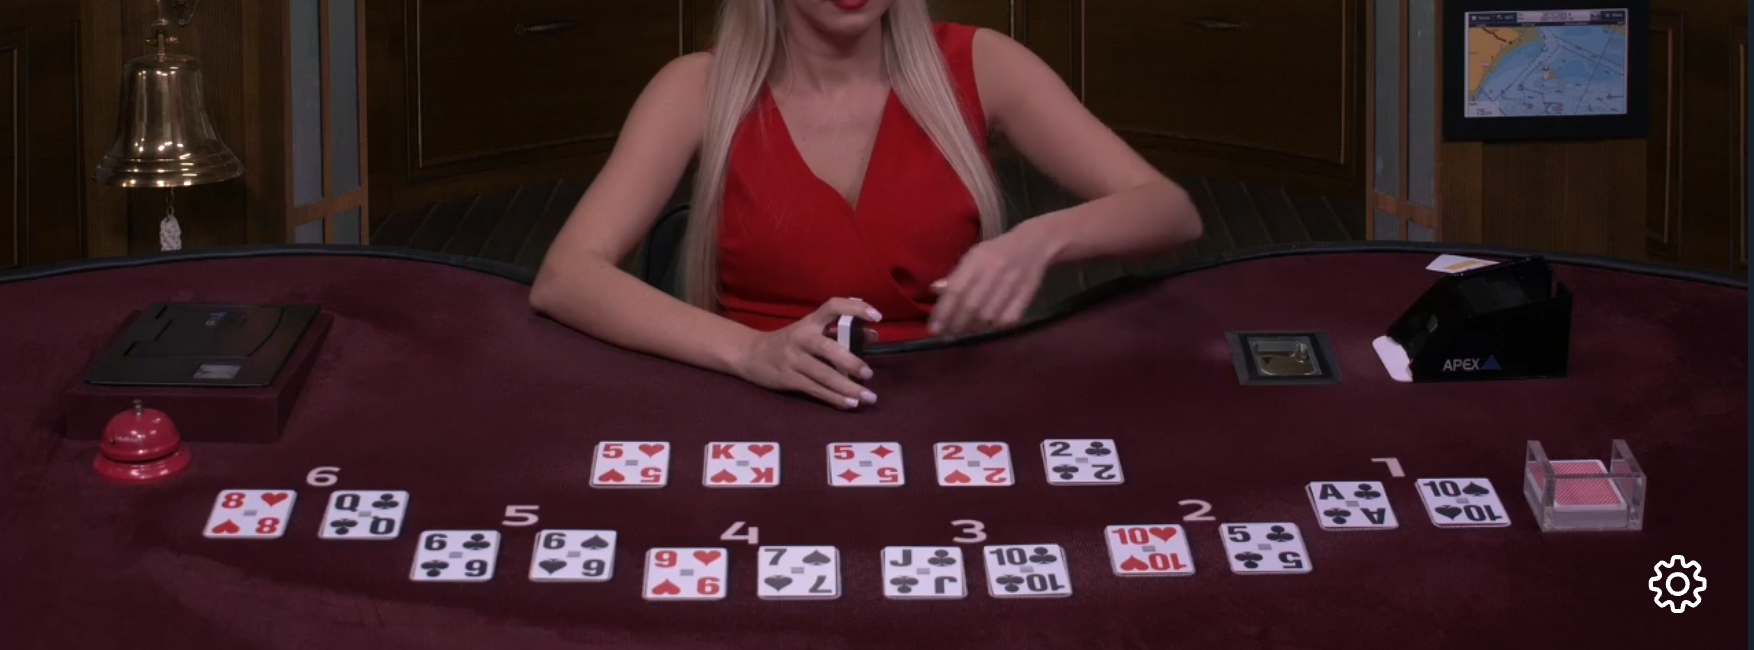10c: (987, 546, 1078, 593)
10h: (1105, 521, 1207, 581)
10s: (1415, 475, 1509, 534)
2c: (1038, 431, 1128, 492)
2h: (935, 433, 1018, 492)
5c: (1218, 519, 1317, 577)
5d: (821, 434, 913, 492)
5h: (591, 435, 671, 491)
6c: (413, 527, 496, 582)
6s: (534, 520, 617, 588)
7s: (760, 544, 846, 595)
8h: (202, 483, 287, 543)
9h: (648, 543, 728, 602)
asc: (1312, 479, 1397, 533)
jc: (881, 546, 968, 594)
kh: (699, 428, 791, 490)
qc: (319, 483, 405, 541)
